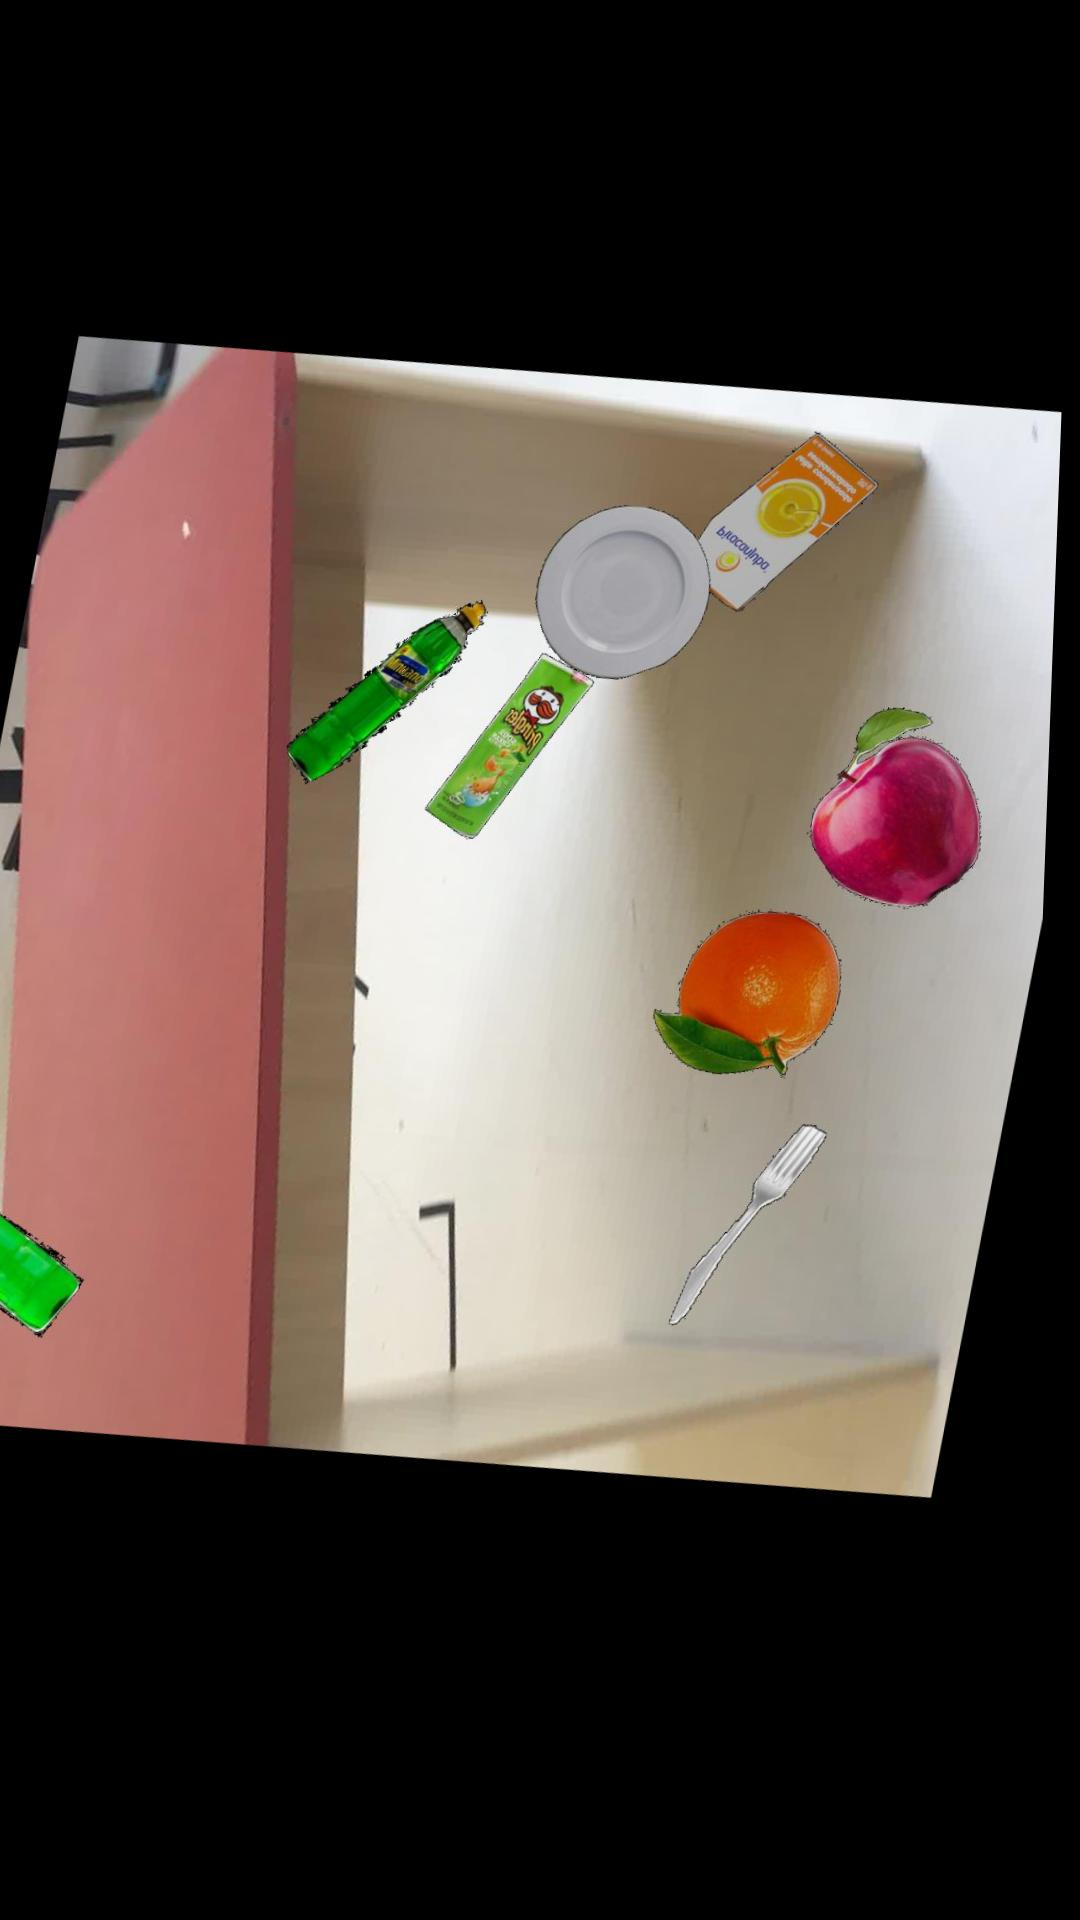apple: (815, 724, 986, 923)
cleaner: (290, 609, 489, 787), (0, 1209, 92, 1338)
fork: (678, 1139, 835, 1337)
orange: (659, 923, 848, 1089)
plate: (538, 517, 713, 691)
pringles: (430, 663, 597, 848)
